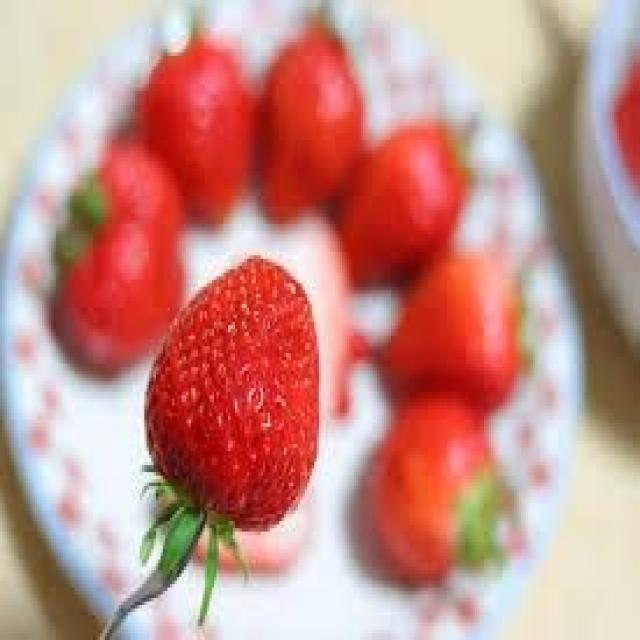mature: (144, 256, 320, 530)
